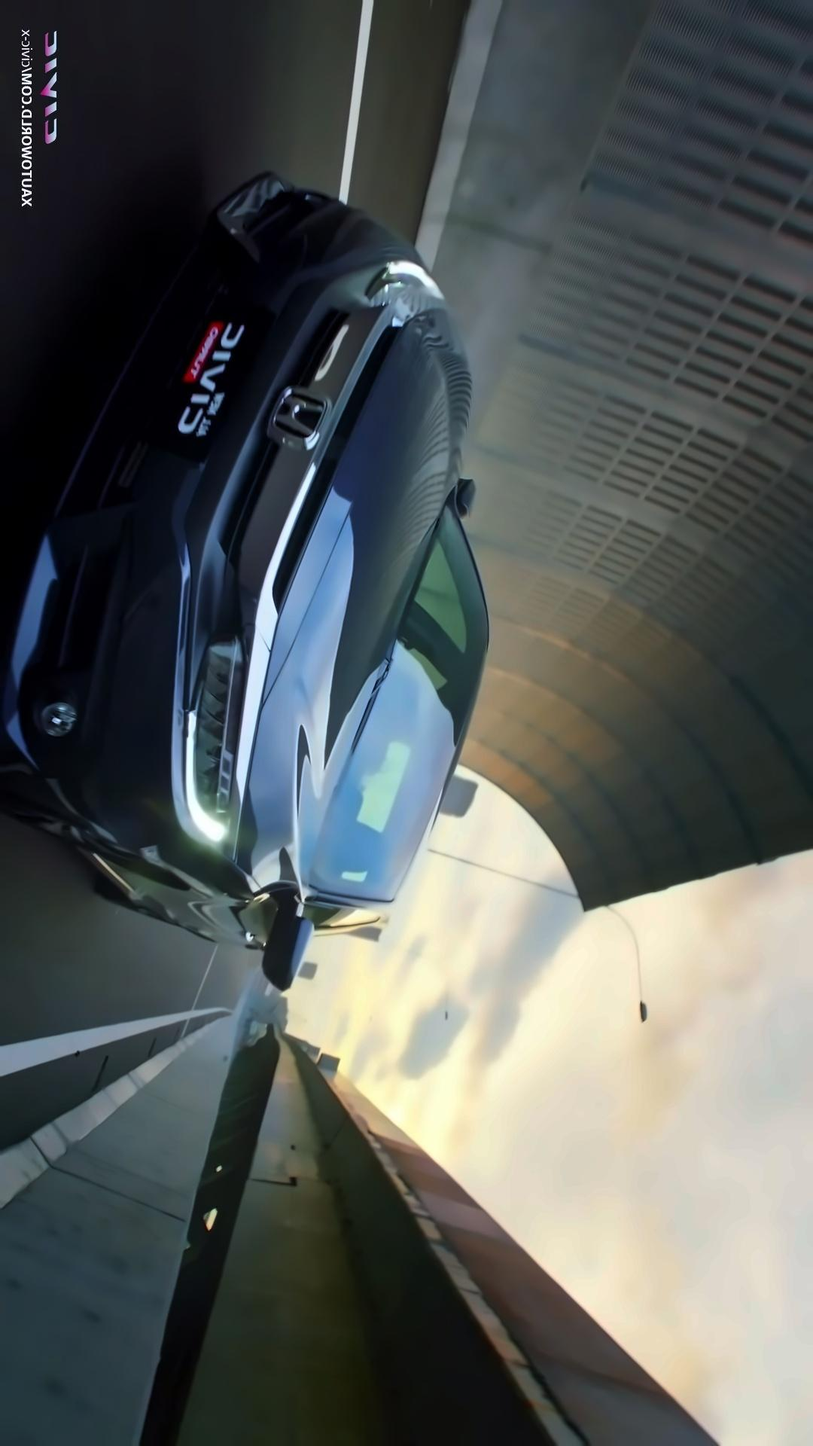Car hood: (233, 298, 476, 894)
Front bumper: (0, 157, 357, 838)
Headlight - -L-: (173, 614, 258, 862)
Headlight - -R-: (362, 247, 459, 337)
Side mirror - -L-: (266, 898, 327, 1011)
Side mirror - -R-: (446, 463, 489, 545)
